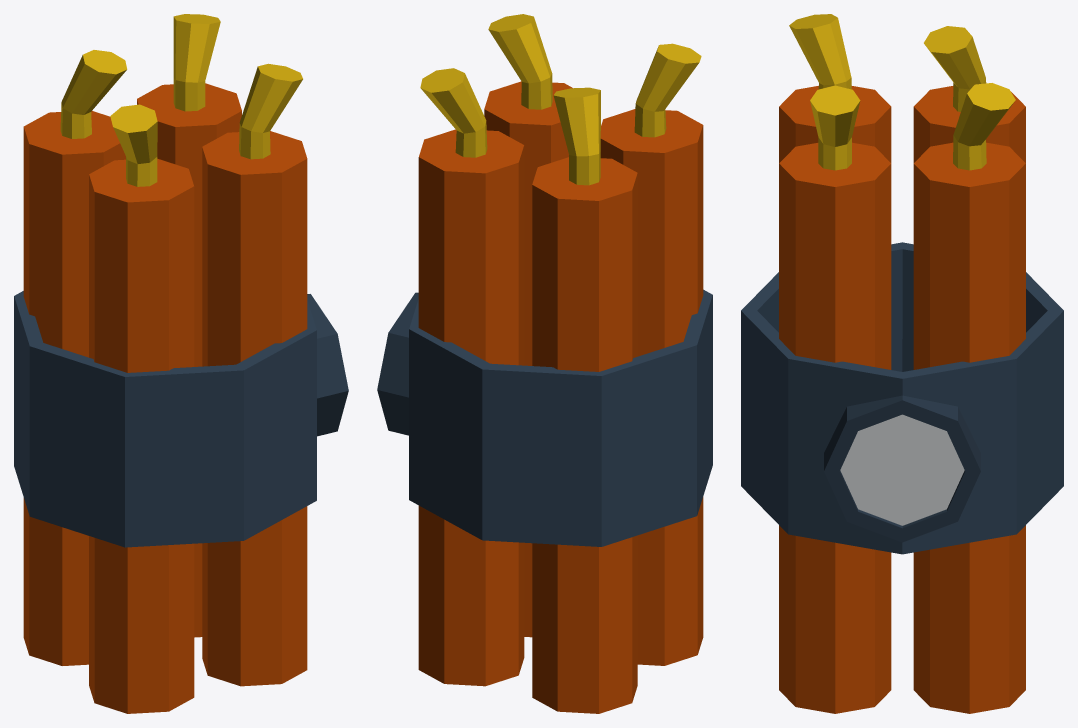
The model's file is Dynomite.fbx.
The picture shows the model from 3 angles, left to right: view 1: azimuth 30°, elevation 25°; view 2: azimuth 150°, elevation 25°; view 3: azimuth 270°, elevation 25°; orthographic projection. The views are drawn at different scales.
Visible parts, largest first — view 1: Cylinder, Cylinder.002, Cylinder.005, Cylinder.003, Cylinder.001, Cylinder.004; view 2: Cylinder, Cylinder.003, Cylinder.001, Cylinder.005, Cylinder.002, Cylinder.004; view 3: Cylinder, Cylinder.001, Cylinder.002, Cylinder.004, Cylinder.005, Cylinder.003.
Part boxes in pixels (x1,y1,x2,y2): Cylinder: (14,291,316,547); Cylinder.002: (202,63,307,686); Cylinder.005: (89,104,194,713); Cylinder.003: (23,50,127,665); Cylinder.001: (137,14,241,637); Cylinder.004: (307,294,348,436); Cylinder: (409,289,712,546); Cylinder.003: (532,87,637,713); Cylinder.001: (418,68,524,686); Cylinder.005: (600,43,703,665); Cylinder.002: (484,14,572,637); Cylinder.004: (377,292,418,435); Cylinder: (741,242,1063,554); Cylinder.001: (913,83,1025,713); Cylinder.002: (779,85,891,713); Cylinder.004: (824,395,980,542); Cylinder.005: (779,14,891,162); Cylinder.003: (913,26,1025,162).
Bounding box in the file's own units: 194 × 389 × 187.
